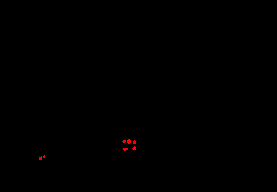Target: (127, 139, 131, 144), (132, 146, 136, 150), (123, 148, 128, 151), (122, 140, 126, 143), (133, 140, 136, 144), (39, 156, 42, 160), (43, 155, 45, 158)
